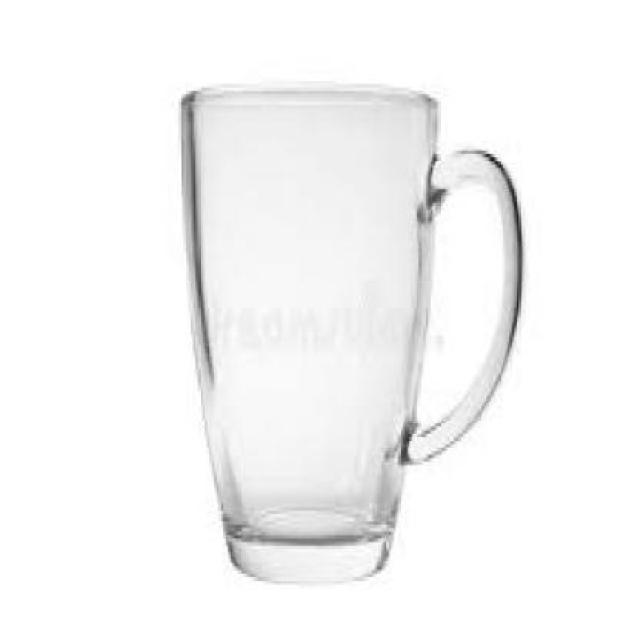kaca: (178, 85, 522, 577)
